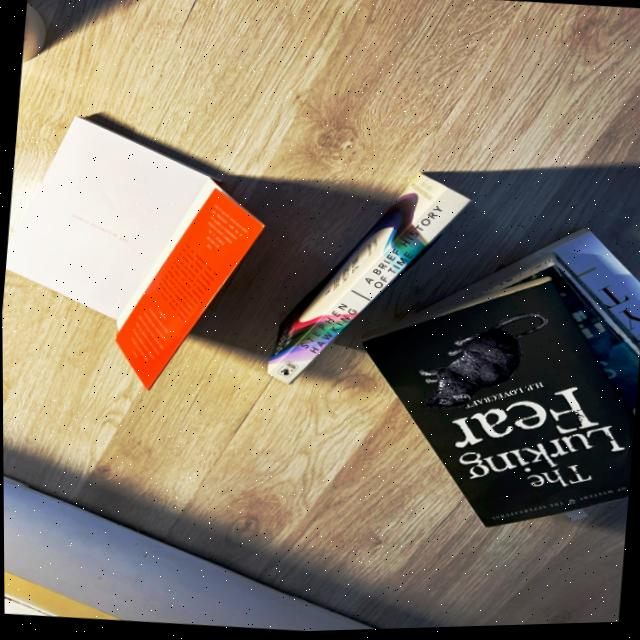Book: (6, 115, 266, 389), (363, 282, 633, 529), (267, 177, 469, 385), (457, 254, 638, 419), (404, 230, 640, 348)
